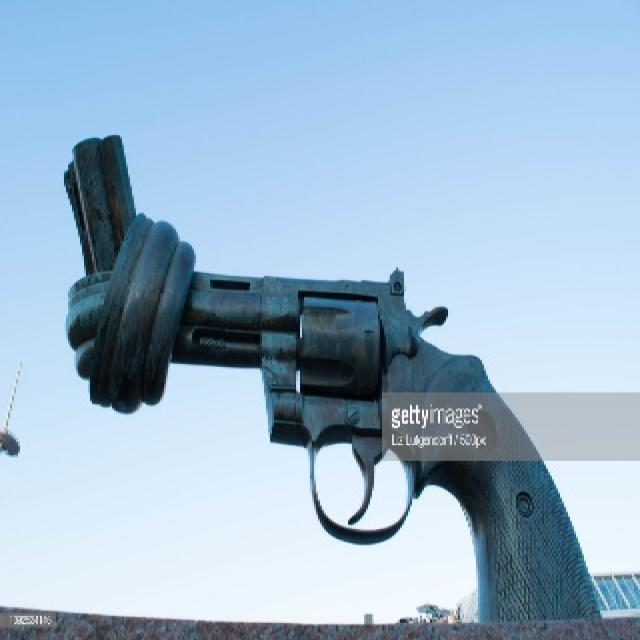handgun: (55, 128, 613, 623)
